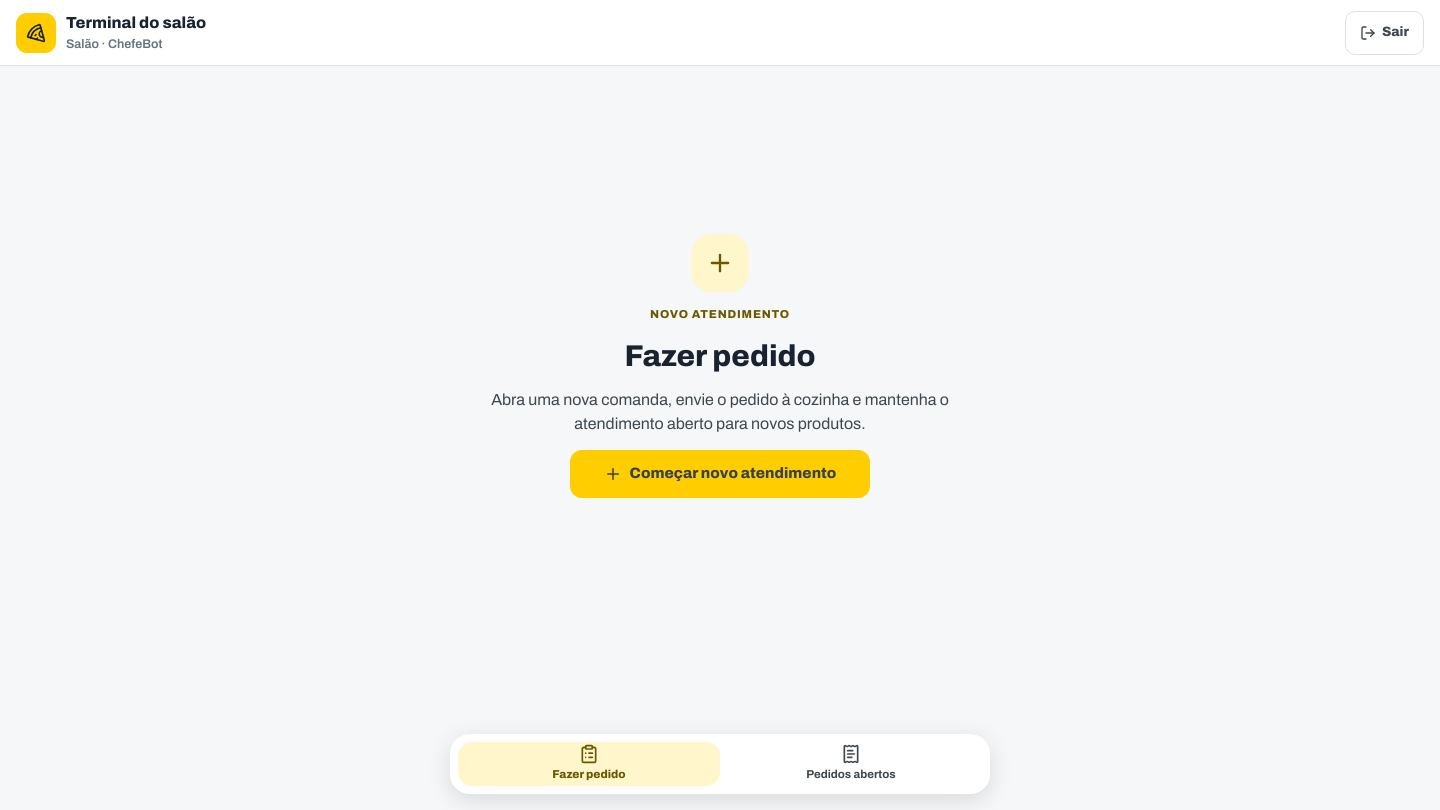
Test: /salao — pedido primeiro, nome no final › mesa continua opcional e Sem mesa desabilita o campo
Click the button "Começar novo atendimento": (720, 474) [570,450,870,498]
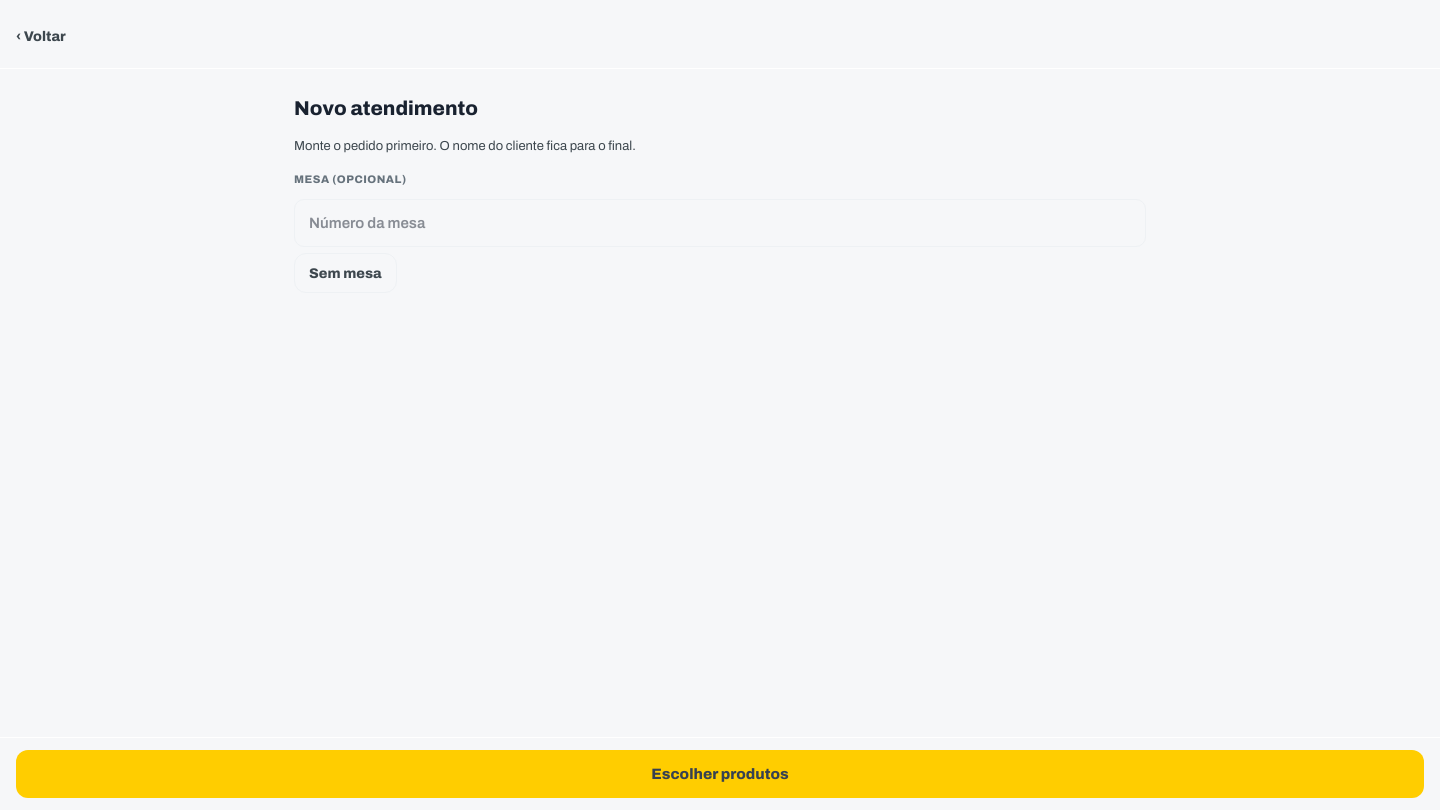
Click the button "Sem mesa": (345, 273) [294,253,397,293]
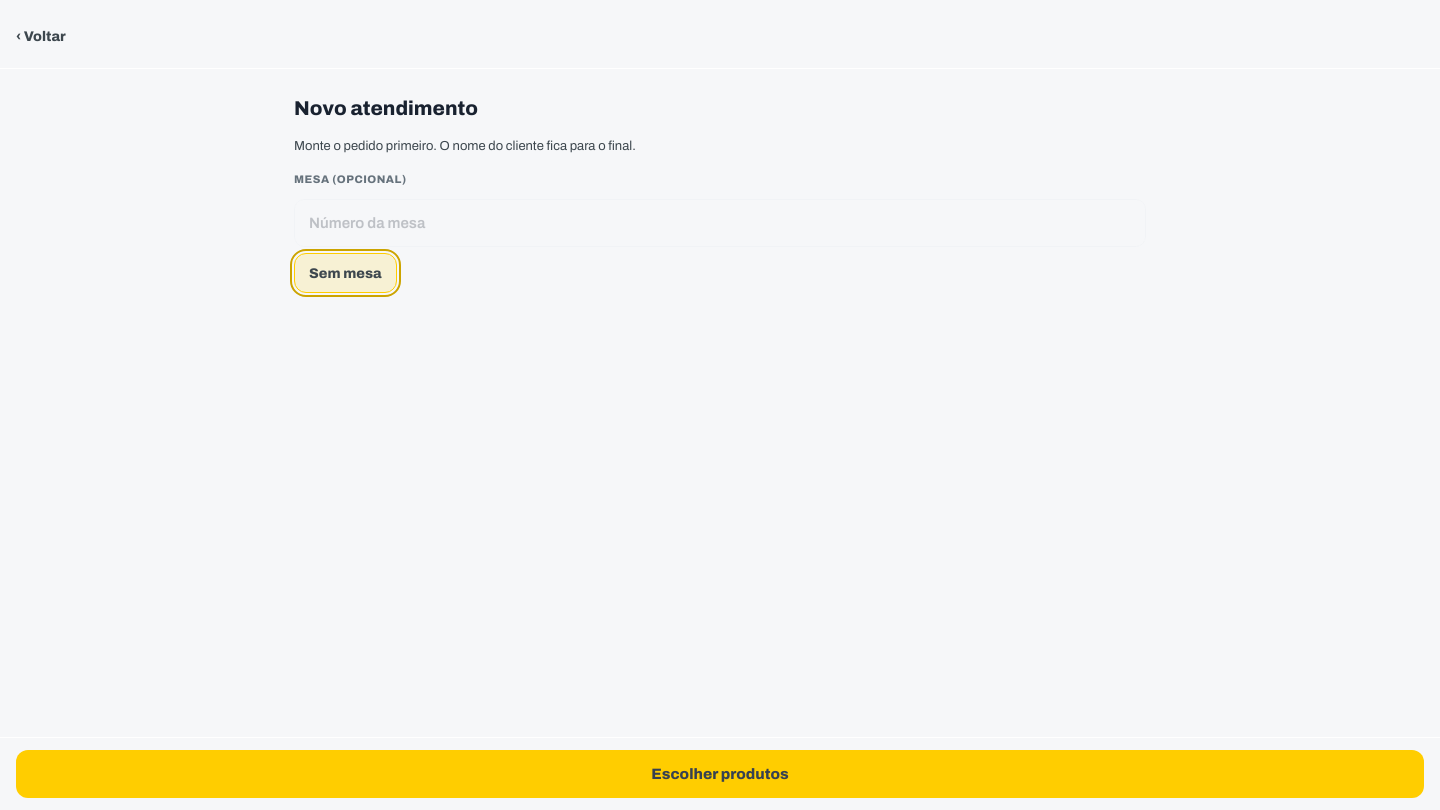
Expected: the field with placeholder "Número da mesa" is disabled, [294,199,1146,247]
Click the button "Escolher produtos": (720, 774) [16,750,1424,798]
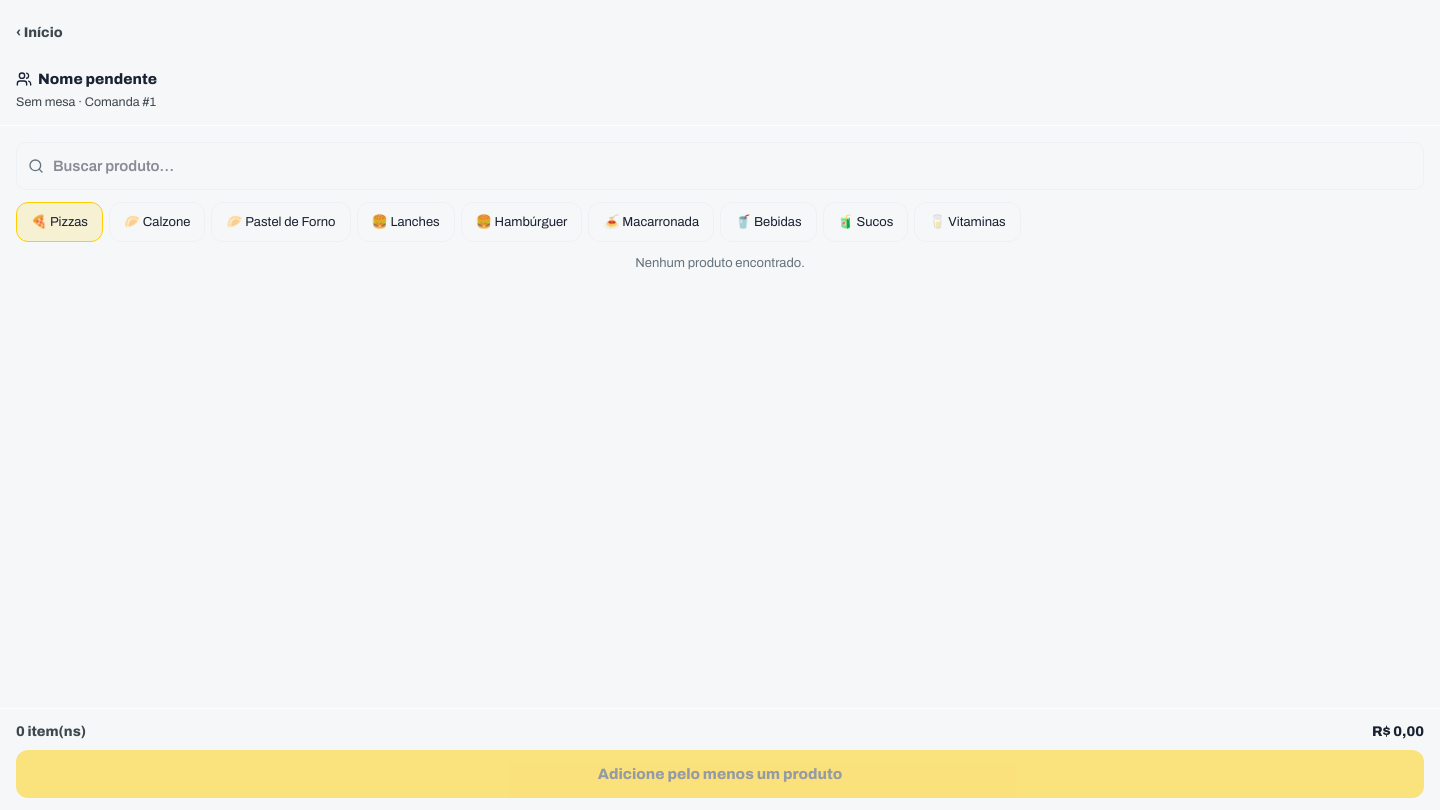
Expected: the text "Nome pendente" is shown, [16,71,157,87]
